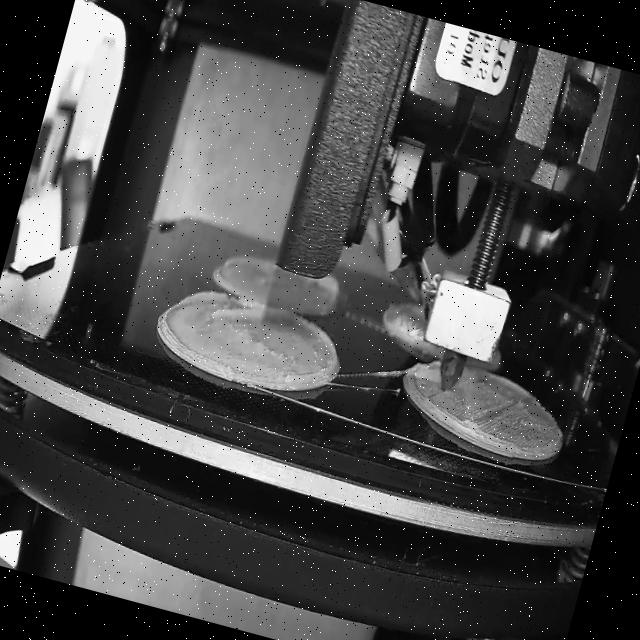over_extrusion: (177, 282, 296, 345), (288, 316, 348, 378), (316, 278, 345, 316)
